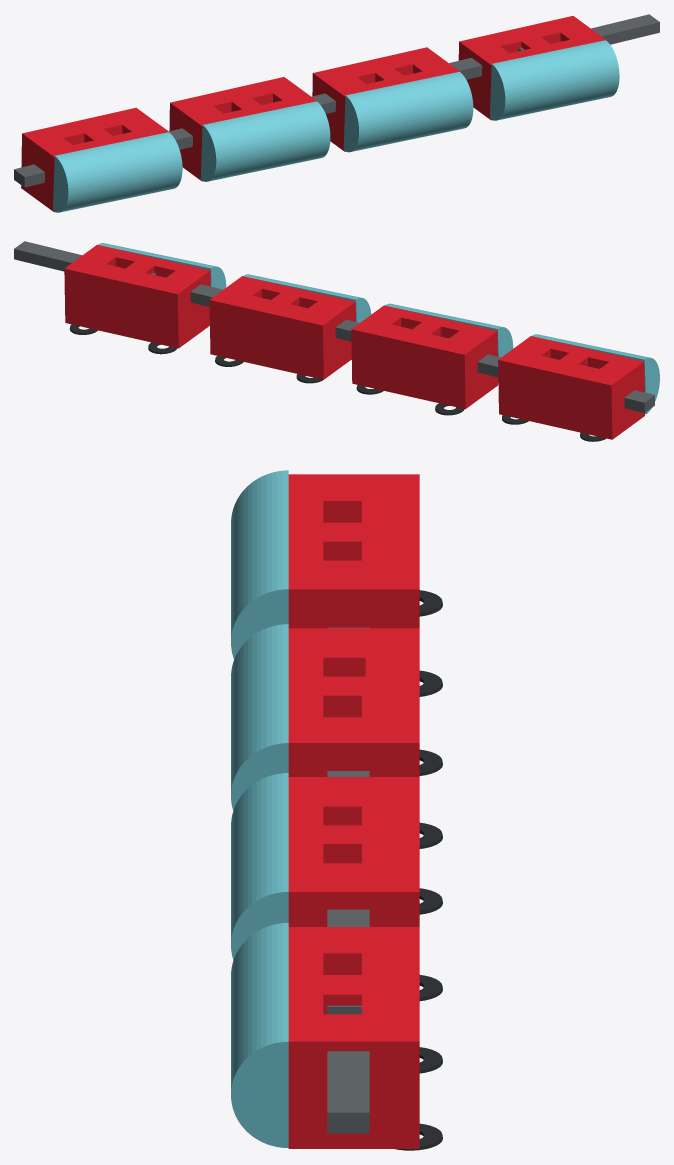
File: tinker.obj
3 renders of one model, top to bottom at view 1: azimuth 30°, elevation 25°; view 2: azimuth 150°, elevation 25°; view 3: azimuth 270°, elevation 25°, orthographic. The views are drawn at different scales.
Parts seen in each view (by area): view 1: group_0_7720667, group_0_15277357, group_0_6383466; view 2: group_0_15277357, group_0_7720667, group_0_6383466, group_0_2829873; view 3: group_0_15277357, group_0_7720667, group_0_6383466, group_0_2829873.
Boxes of the visible parts, x1,y1,x2,y2 form: group_0_7720667: [53, 40, 619, 212]; group_0_15277357: [21, 16, 605, 212]; group_0_6383466: [14, 14, 659, 187]; group_0_15277357: [64, 244, 645, 439]; group_0_7720667: [98, 243, 659, 414]; group_0_6383466: [14, 241, 654, 412]; group_0_2829873: [69, 324, 606, 441]; group_0_15277357: [288, 474, 419, 1148]; group_0_7720667: [231, 470, 288, 1147]; group_0_6383466: [327, 627, 369, 1133]; group_0_2829873: [395, 590, 442, 1150].
Size of the model in its own units: 378 by 43.35 by 55.06.
